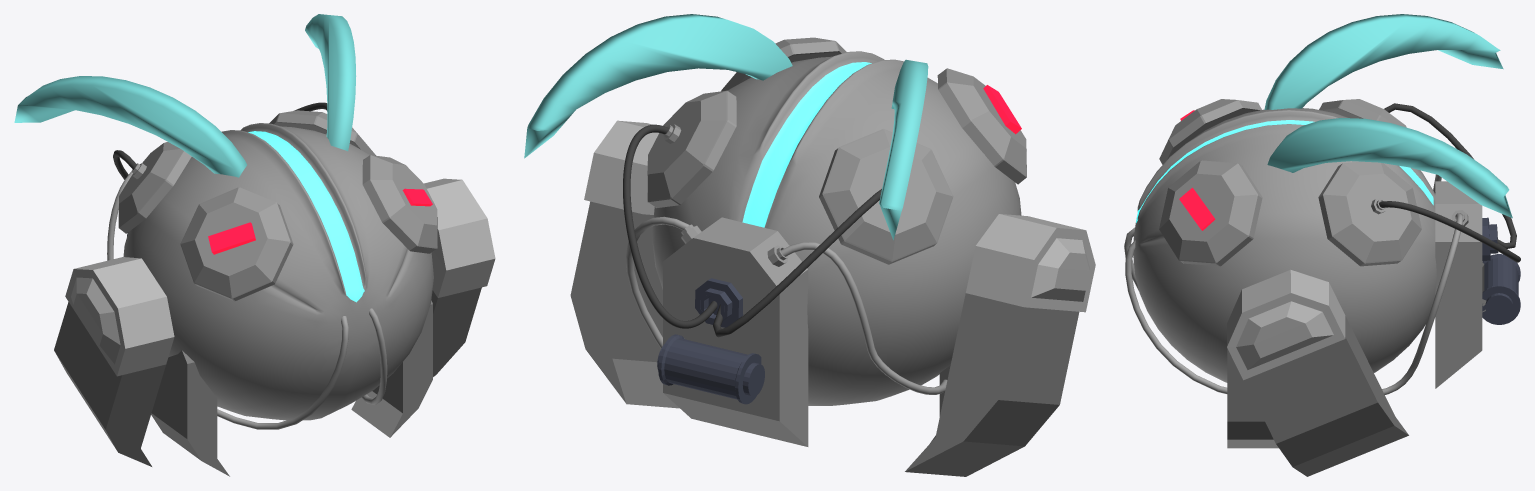
File: super-minion.gltf
The picture shows the model from 3 angles, left to right: view 1: azimuth 30°, elevation 25°; view 2: azimuth 150°, elevation 25°; view 3: azimuth 270°, elevation 25°; orthographic projection. The views are drawn at different scales.
Parts seen in each view (by area): view 1: Body; view 2: Body; view 3: Body.
Boxes of the visible parts, left/top/right/bottom form: Body: left=14, top=14, right=495, bottom=476; Body: left=524, top=14, right=1095, bottom=476; Body: left=1124, top=14, right=1520, bottom=476.
Size of the model in its own units: 3.06 by 2.68 by 2.75.
